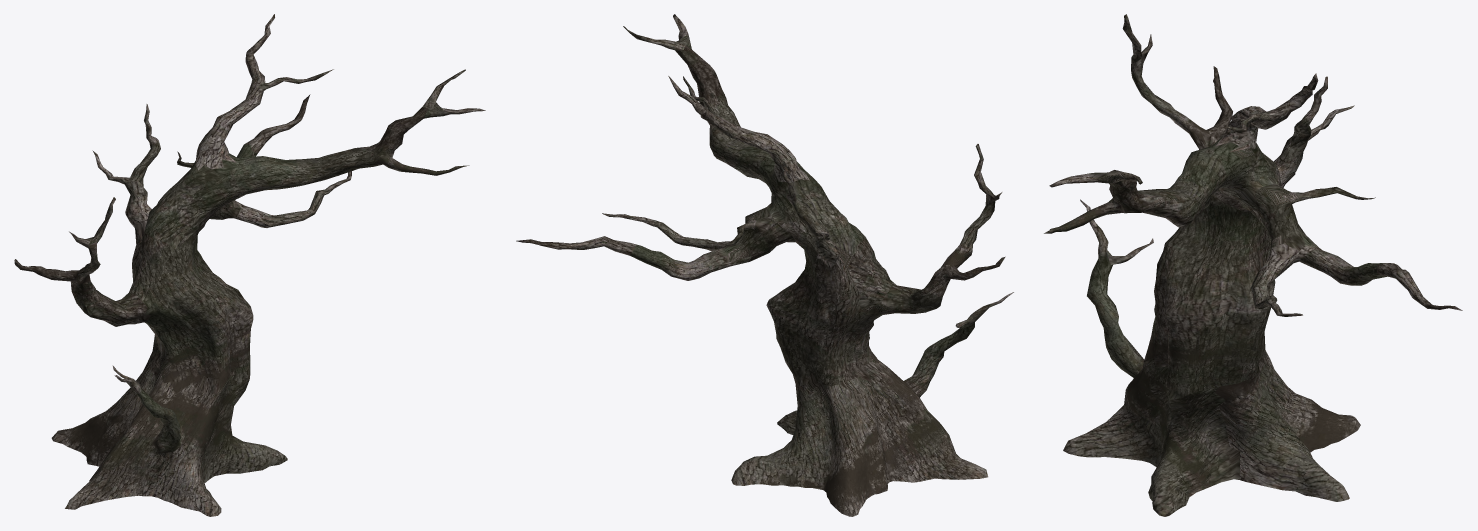
Rendered from tree2.obj.
3 renders of one model, left to right at view 1: azimuth 30°, elevation 25°; view 2: azimuth 150°, elevation 25°; view 3: azimuth 270°, elevation 25°, orthographic. The views are drawn at different scales.
Parts seen in each view (by area): view 1: Box03; view 2: Box03; view 3: Box03.
Boxes of the visible parts, x1,y1,x2,y2 form: Box03: (14, 14, 485, 516); Box03: (516, 14, 1013, 516); Box03: (1044, 14, 1462, 516).
Size of the model in its own units: 1.77 by 1.55 by 1.25.
Materials: 1 (1 with a texture image).
